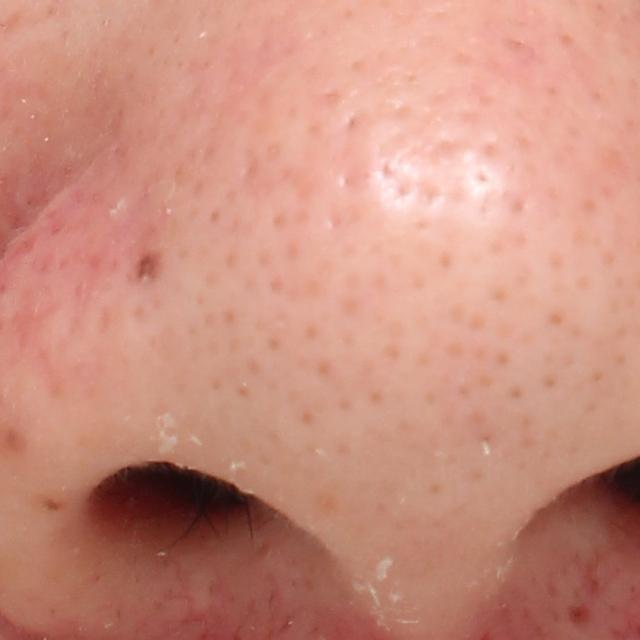nevus: (130, 252, 164, 288)
